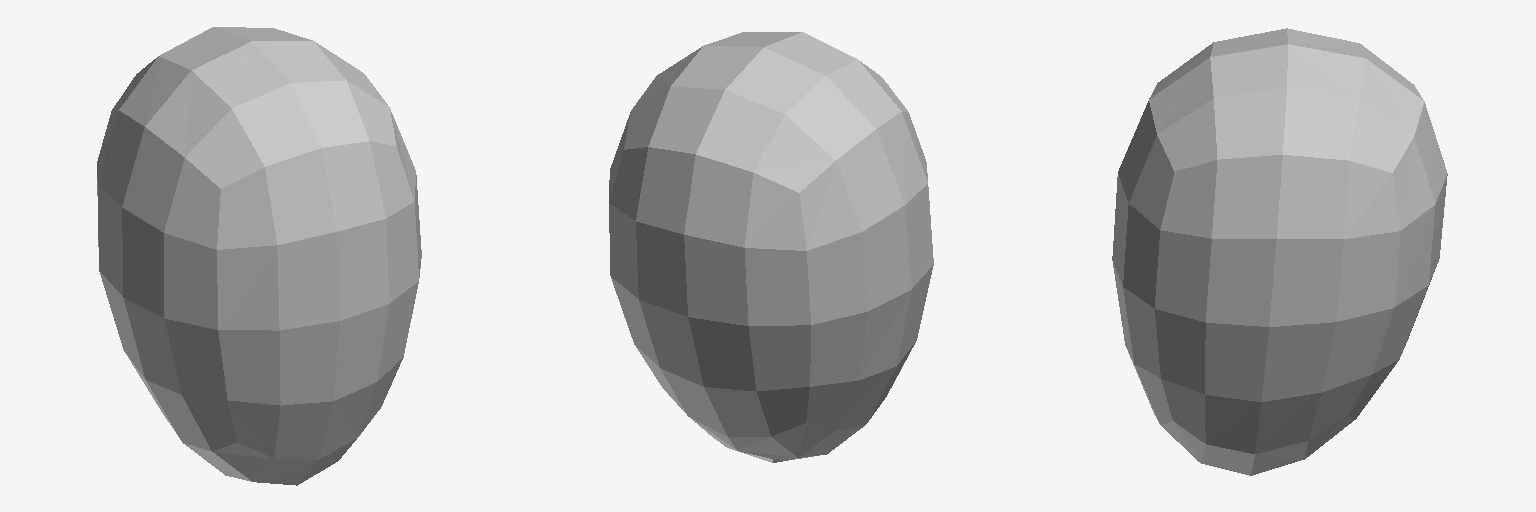
Rendered from head.obj.
The picture shows the model from 3 angles: view 1: azimuth 30°, elevation 25°; view 2: azimuth 150°, elevation 25°; view 3: azimuth 270°, elevation 25°; orthographic projection.
Parts seen in each view (by area): view 1: Head.005; view 2: Head.005; view 3: Head.005.
Part boxes in pixels (left/top/right/bottom): Head.005: left=97, top=27, right=421, bottom=485; Head.005: left=609, top=32, right=933, bottom=462; Head.005: left=1112, top=28, right=1447, bottom=475.
Bounding box in the file's own units: 0.1504 × 0.2202 × 0.1581.